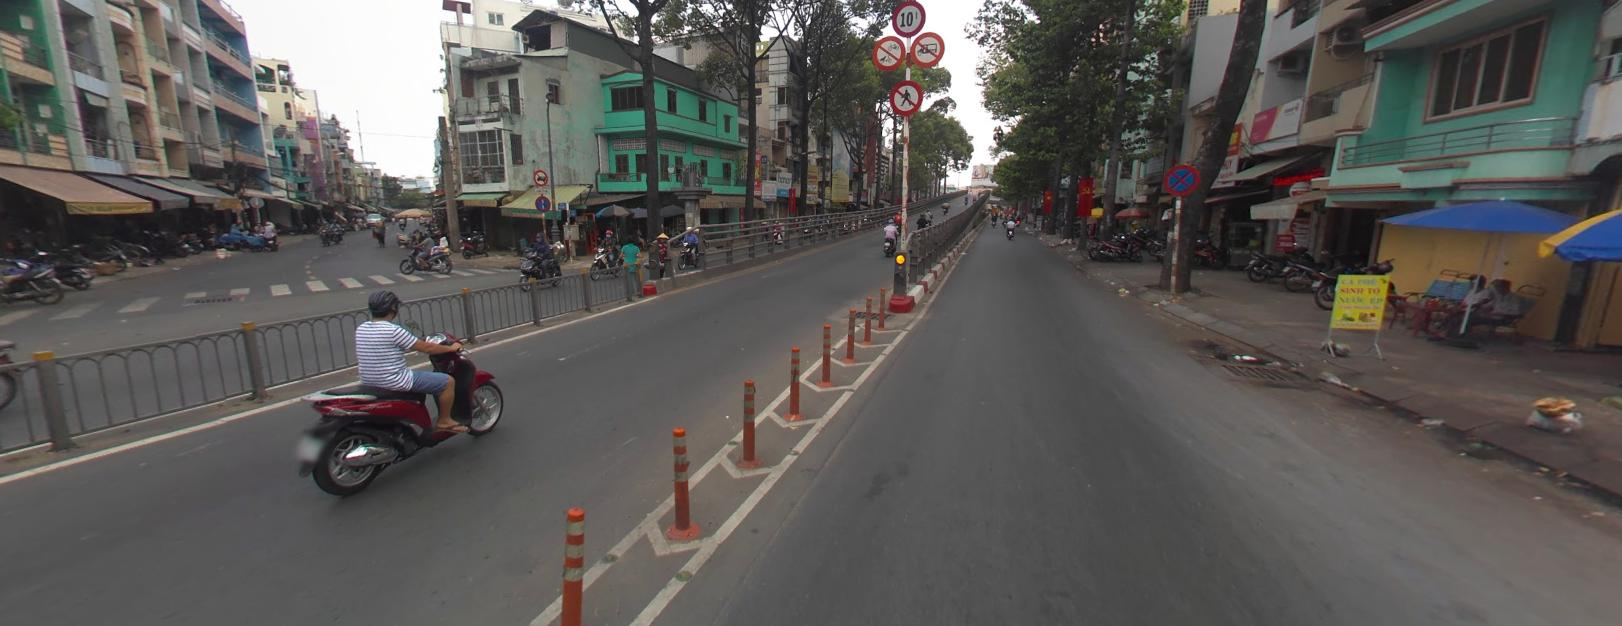Cam con lai: (908, 32, 945, 67), (889, 0, 926, 35), (871, 35, 905, 71), (889, 79, 922, 113), (533, 168, 547, 184)
Cam dung va do: (1163, 162, 1201, 193), (534, 193, 551, 211)
